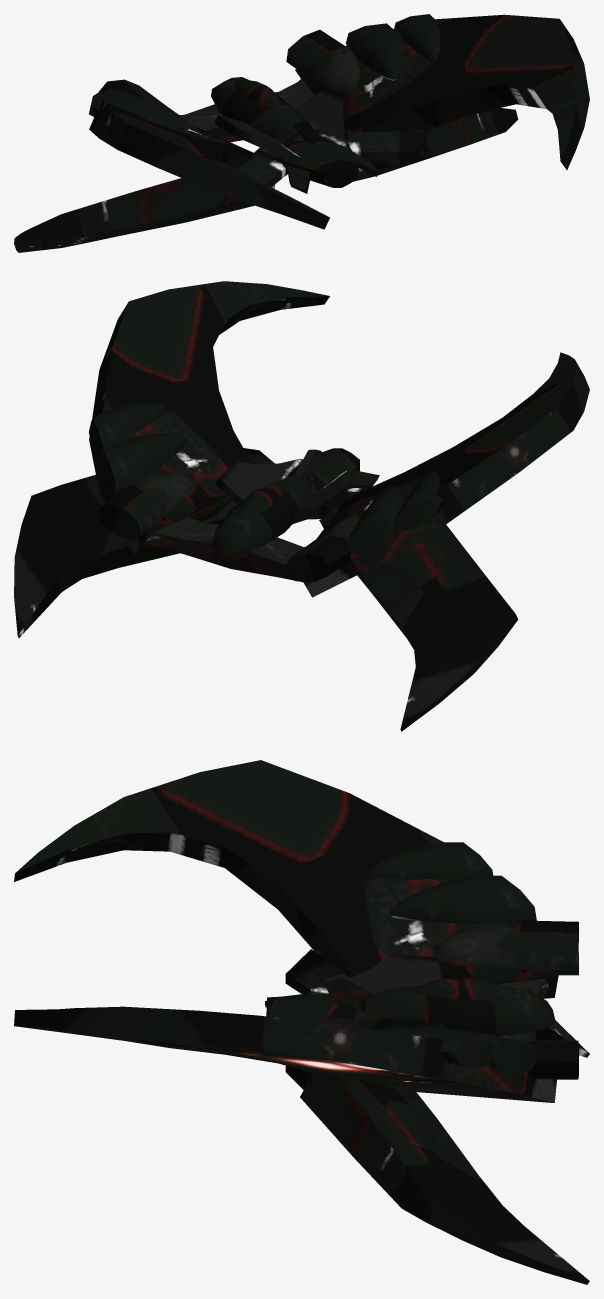
The model's file is ship20c.fbx.
3 renders of one model, top to bottom at view 1: azimuth 30°, elevation 25°; view 2: azimuth 150°, elevation 25°; view 3: azimuth 270°, elevation 25°, orthographic. The views are drawn at different scales.
Visible parts, largest first — view 1: 01_WingLeft, 00_Core, 02_WingRight; view 2: 00_Core, 01_WingLeft, 02_WingRight; view 3: 02_WingRight, 00_Core, 01_WingLeft.
Part boxes in pixels (bbox=[...]): 01_WingLeft: bbox=[286, 14, 589, 169]; 00_Core: bbox=[14, 77, 518, 252]; 02_WingRight: bbox=[89, 79, 329, 229]; 00_Core: bbox=[14, 448, 518, 731]; 01_WingLeft: bbox=[88, 281, 329, 553]; 02_WingRight: bbox=[286, 352, 589, 597]; 02_WingRight: bbox=[14, 760, 578, 998]; 00_Core: bbox=[265, 949, 589, 1284]; 01_WingLeft: bbox=[14, 1006, 578, 1102].
Size of the model in its own units: 25211 by 11593 by 21343.
1 material, 1 textured.
